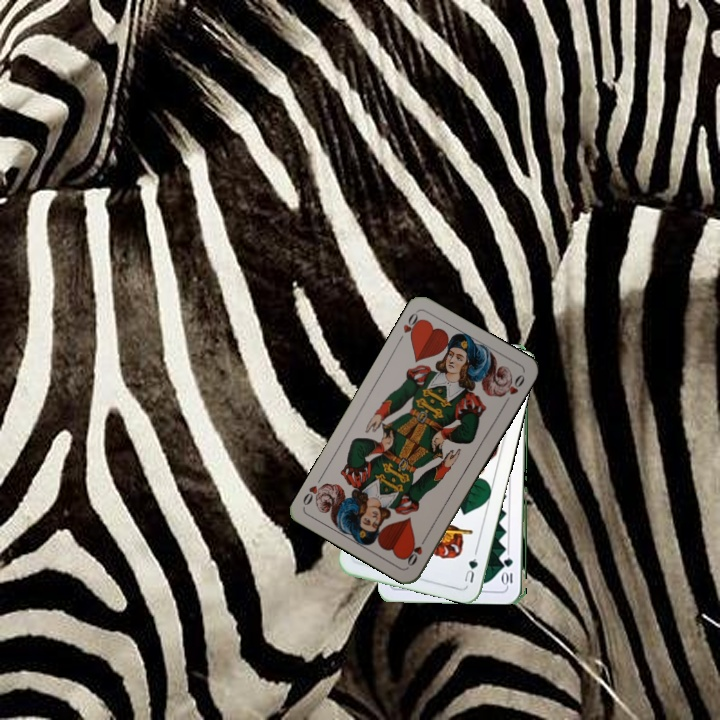G10: (502, 553, 515, 588)
GU: (460, 548, 480, 585)
HO: (394, 309, 425, 345), (403, 532, 430, 569)
